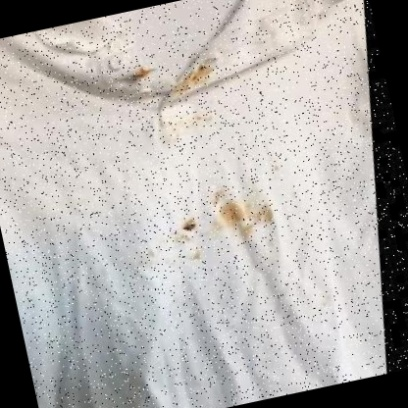coffee: (218, 199, 245, 226), (184, 67, 211, 84)
